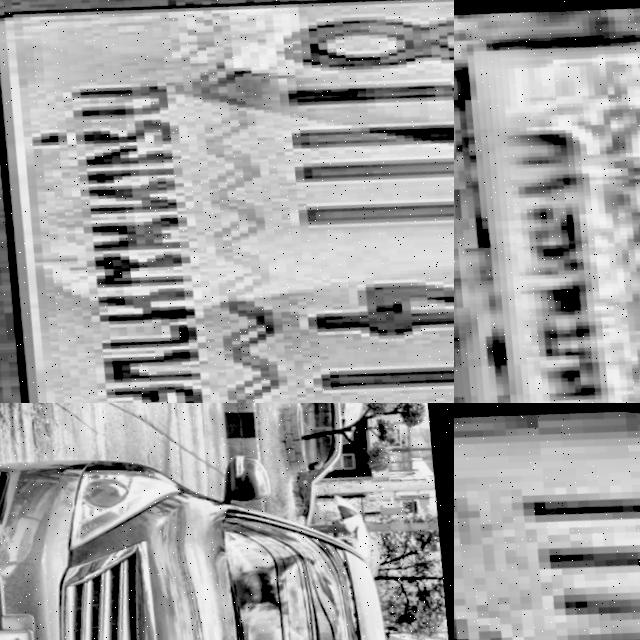license-plate: (0, 0, 454, 403), (454, 0, 640, 403), (454, 403, 640, 640)
